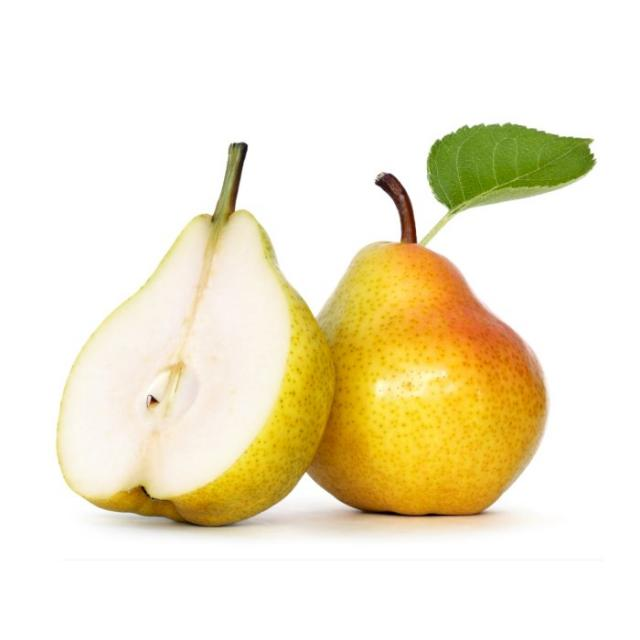pear: (48, 134, 326, 530), (316, 167, 554, 521)
